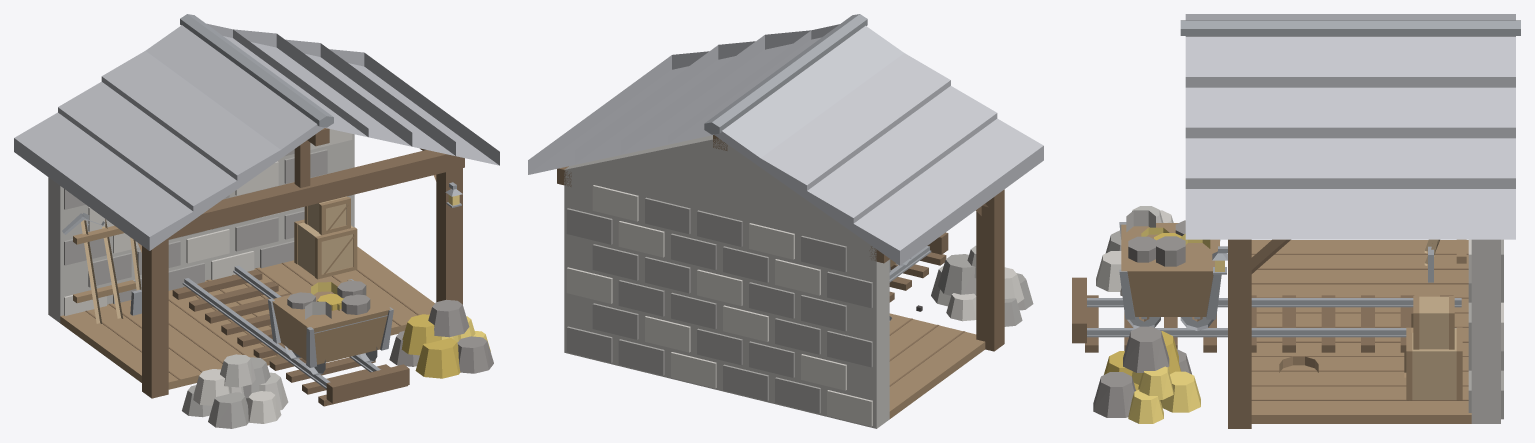
The model's file is mining_camp.glb.
3 views of the same model, side by side, from view 1: azimuth 30°, elevation 25°; view 2: azimuth 150°, elevation 25°; view 3: azimuth 270°, elevation 25° (orthographic). The views are drawn at different scales.
Parts seen in each view (by area): view 1: Floor, Roof, Roof#2, Roof#3, Roof#4, Wall, Beam.Front, Cart, Roof#7, Post, Roof#5, Roof#6 (+42 smaller); view 2: Wall, Roof, Wall.Gable, Roof#2, Roof#3, Roof#4, Floor, Roof#7, Post, Roof#6, Roof#5, Roof.Ridge (+37 smaller); view 3: Floor, Roof#5, Roof#6, Roof#7, Roof#8, Cart, Wall, Roof.Ridge, Post#2, Crate, Rail#2, Pile#18 (+26 smaller).
Part boxes in pixels (<box>): Floor: <box>60,246,434,389</box>; Roof: <box>14,112,193,250</box>; Roof#2: <box>58,81,237,219</box>; Roof#3: <box>101,51,280,188</box>; Roof#4: <box>145,25,324,158</box>; Wall: <box>48,134,354,322</box>; Beam.Front: <box>168,150,464,239</box>; Cart: <box>272,280,391,364</box>; Roof#7: <box>233,29,412,146</box>; Post: <box>142,238,168,398</box>; Roof#5: <box>329,49,499,165</box>; Roof#6: <box>285,39,455,155</box>; Wall: <box>564,170,889,428</box>; Roof: <box>853,118,1043,265</box>; Wall.Gable: <box>564,135,868,243</box>; Roof#2: <box>807,86,997,232</box>; Roof#3: <box>760,53,950,199</box>; Roof#4: <box>714,25,903,167</box>; Floor: <box>889,313,985,418</box>; Roof#7: <box>621,30,810,154</box>; Post: <box>976,189,1004,351</box>; Roof#6: <box>574,41,755,164</box>; Roof#5: <box>528,51,708,174</box>; Roof.Ridge: <box>704,14,867,134</box>; Floor: <box>1251,240,1471,423</box>; Roof#5: <box>1185,178,1515,239</box>; Roof#6: <box>1185,127,1515,178</box>; Roof#7: <box>1185,77,1515,127</box>; Roof#8: <box>1185,37,1515,76</box>; Cart: <box>1121,223,1219,316</box>; Wall: <box>1471,239,1500,423</box>; Roof.Ridge: <box>1180,20,1520,35</box>; Post#2: <box>1228,241,1251,428</box>; Crate: <box>1412,328,1456,399</box>; Rail#2: <box>1087,328,1456,334</box>; Pile#18: <box>1123,326,1169,372</box>.
Size of the model in its own units: 5 by 3.53 by 4.55.
